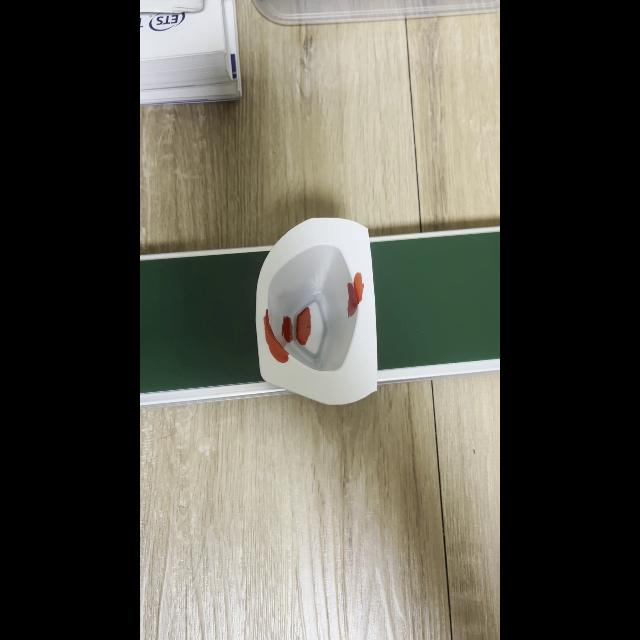dirty: (255, 218, 377, 404)
